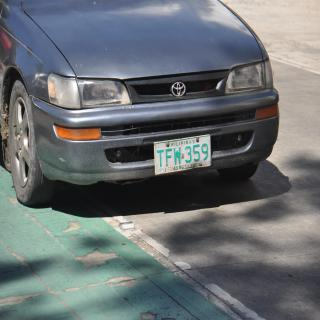license: (155, 136, 212, 176)
